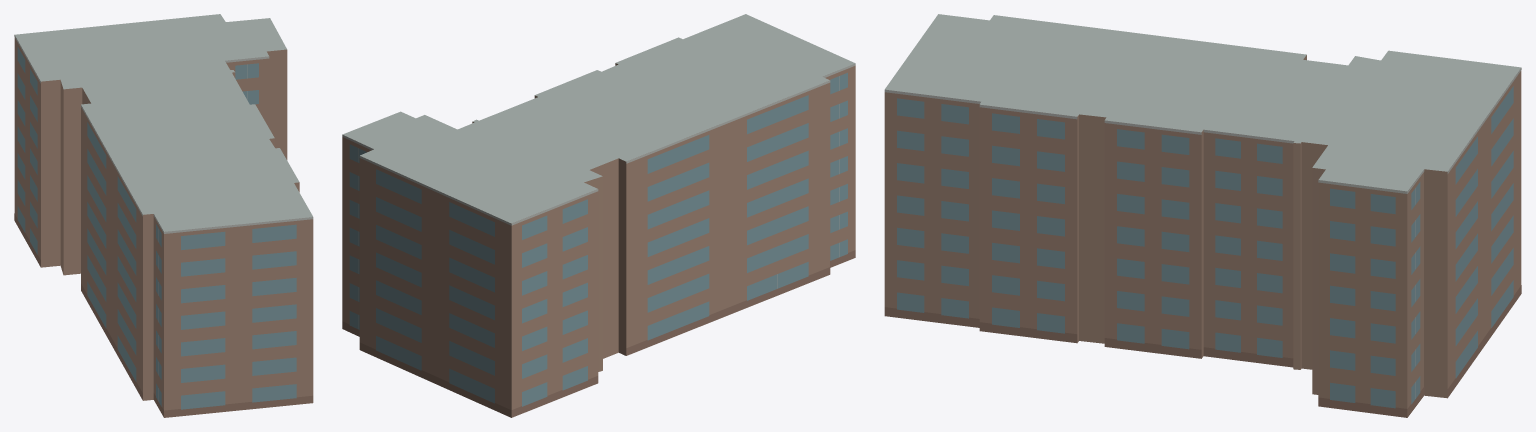
Rendered from survey-upis-32859672.glb.
3 views of the same model, side by side, from view 1: azimuth 30°, elevation 25°; view 2: azimuth 150°, elevation 25°; view 3: azimuth 270°, elevation 25° (orthographic). The views are drawn at different scales.
Visible parts, largest first — view 1: survey-upis-32859672.tmp; view 2: survey-upis-32859672.tmp; view 3: survey-upis-32859672.tmp.
Boxes of the visible parts, bbox=[...] form: survey-upis-32859672.tmp: bbox=[14, 14, 313, 417]; survey-upis-32859672.tmp: bbox=[342, 14, 855, 417]; survey-upis-32859672.tmp: bbox=[884, 14, 1521, 417].
Bounding box in the file's own units: 35.88 × 21.35 × 54.42.
